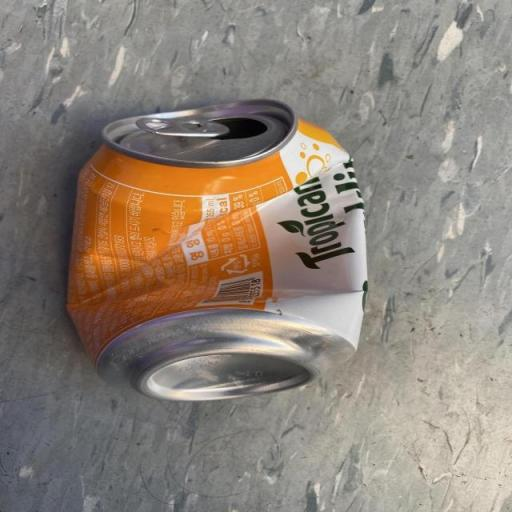metal: (30, 72, 366, 446)
